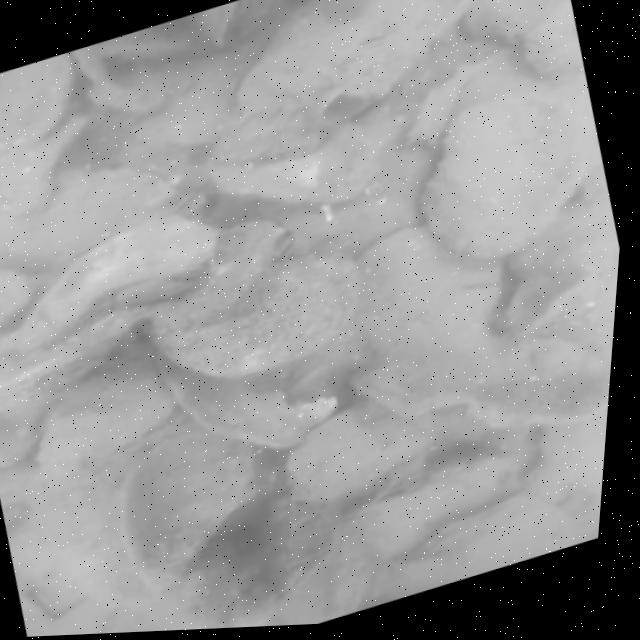Oyster-Closed: (0, 212, 221, 400)
Oyster-Indeterminate: (422, 91, 589, 258), (237, 0, 474, 112), (152, 249, 360, 375), (350, 334, 611, 424), (27, 446, 169, 608), (289, 395, 527, 488), (45, 337, 178, 469), (395, 496, 583, 589), (152, 219, 296, 328), (161, 371, 336, 453), (522, 4, 573, 78), (115, 278, 196, 306)
